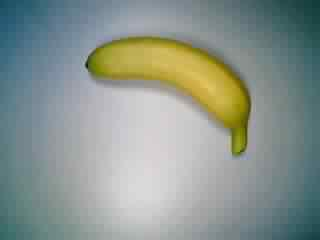banana: (82, 33, 259, 160)
